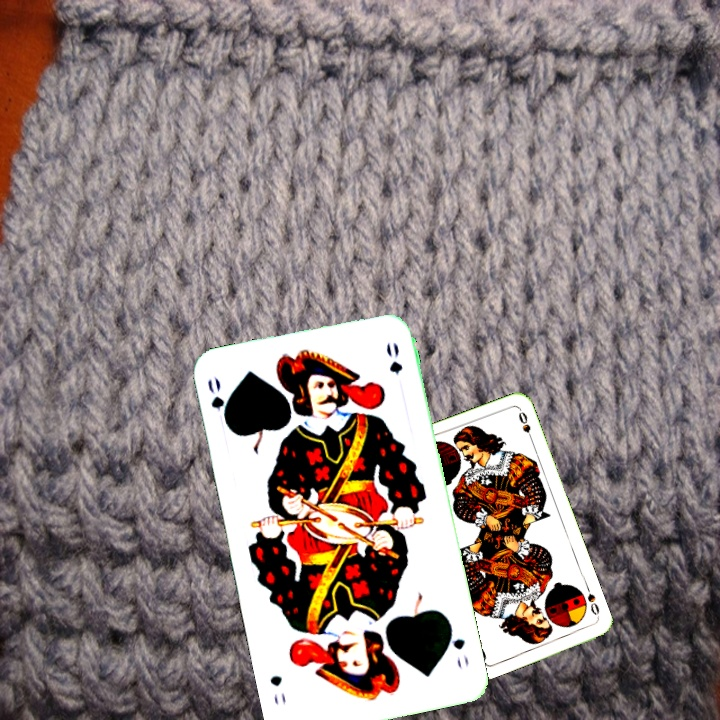GO: (203, 373, 233, 431), (444, 619, 472, 672)
SO: (582, 582, 602, 618)
